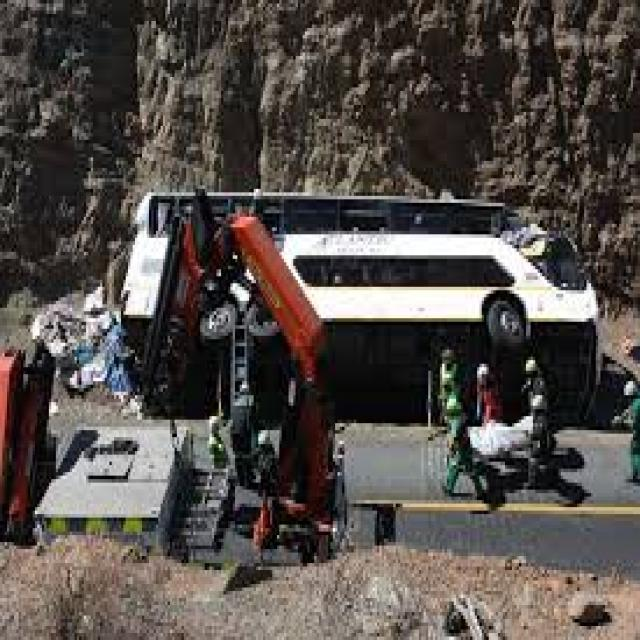accident: (66, 145, 640, 418), (93, 177, 409, 581)
